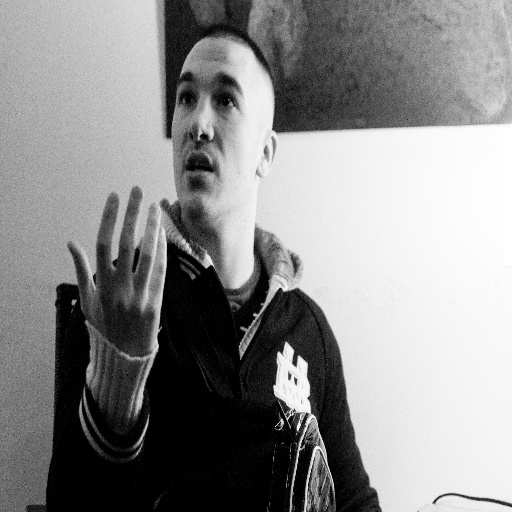hand: (69, 185, 172, 461)
